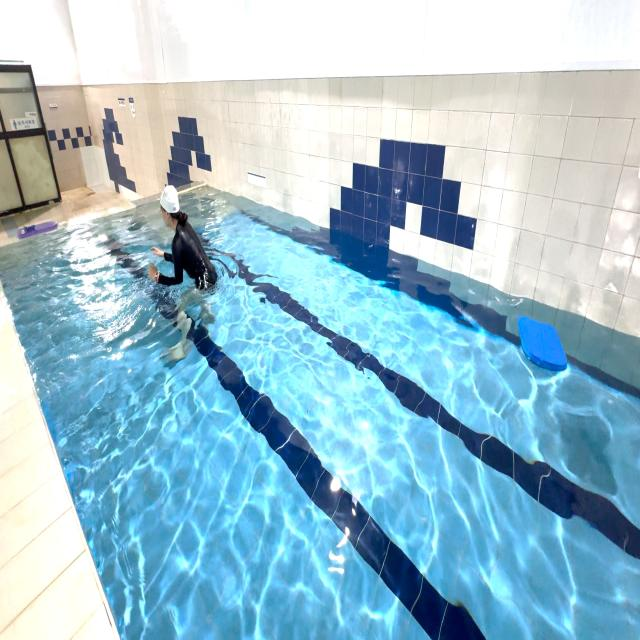Swimming: (146, 180, 220, 360)
